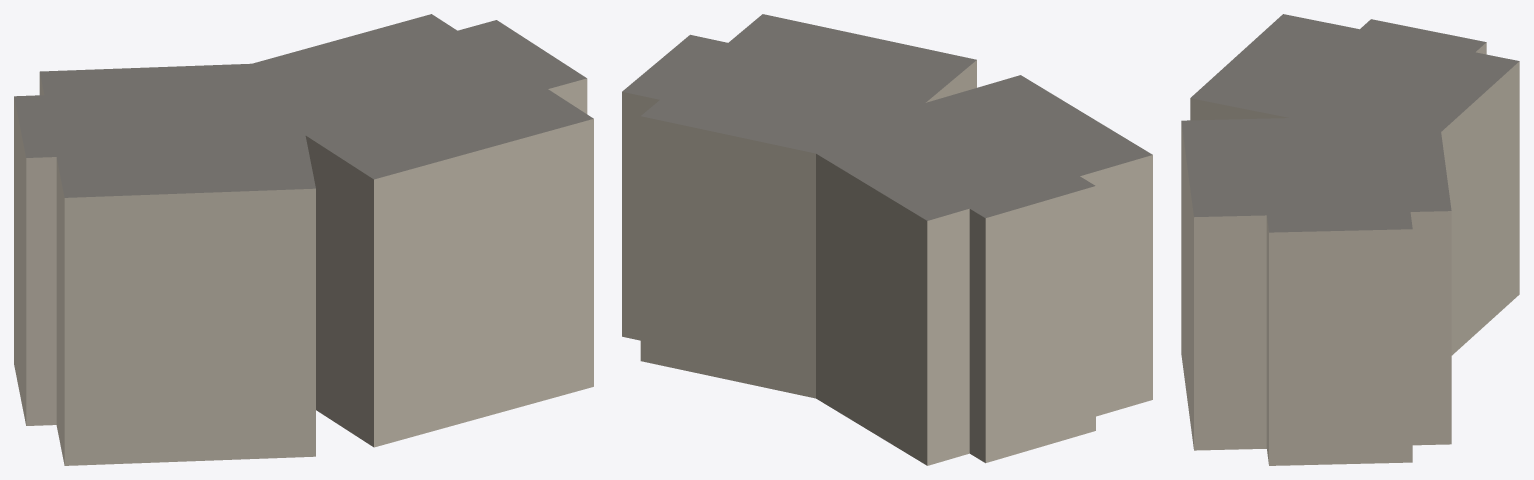
3 renders of one model, left to right at view 1: azimuth 30°, elevation 25°; view 2: azimuth 150°, elevation 25°; view 3: azimuth 270°, elevation 25°, orthographic. The views are drawn at different scales.
Visible parts, largest first — view 1: HP-w859488848; view 2: HP-w859488848; view 3: HP-w859488848.
Boxes of the visible parts, <box> form: HP-w859488848: <box>14,14,593,465</box>; HP-w859488848: <box>622,14,1152,465</box>; HP-w859488848: <box>1181,14,1519,465</box>.
Bounding box in the file's own units: 36.16 × 18 × 23.65.
